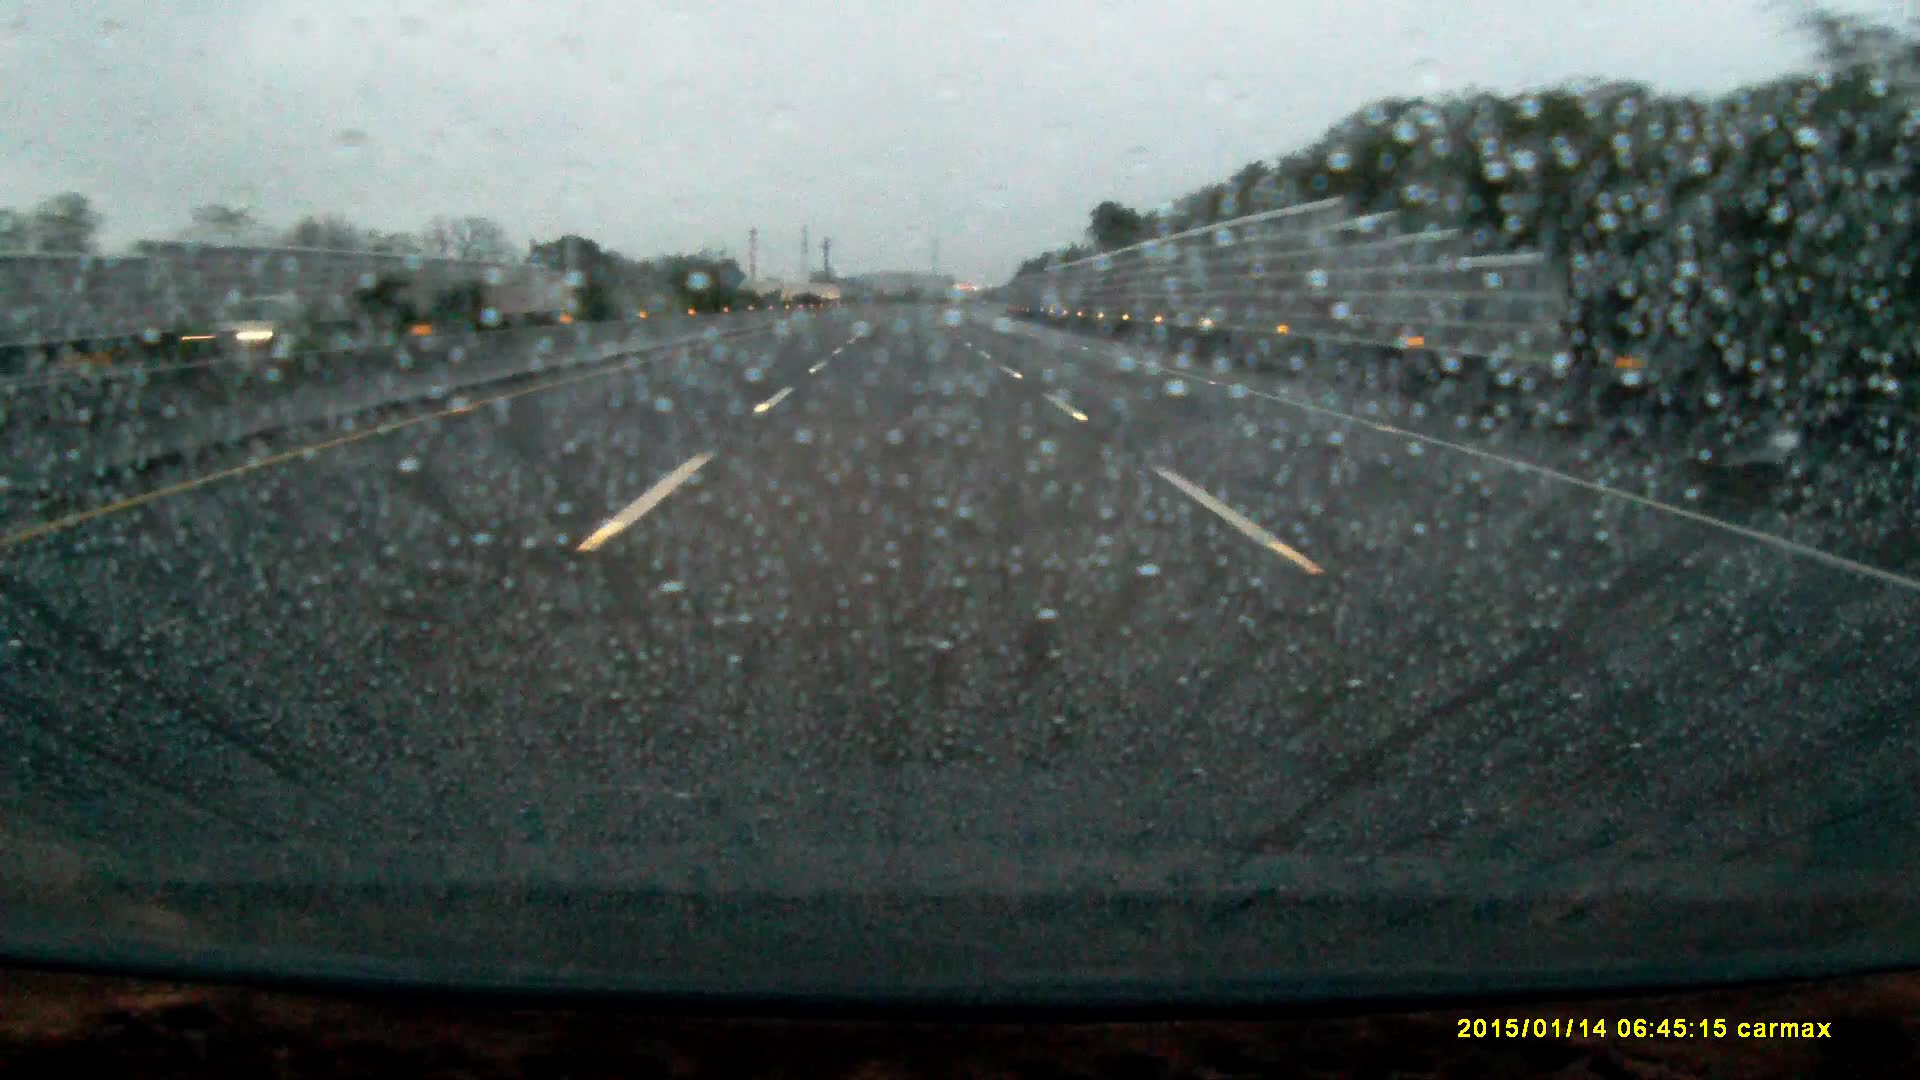vehicle: (203, 293, 309, 347)
